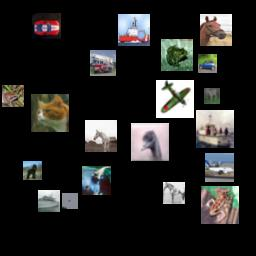airplane: (156, 80, 194, 118), (205, 153, 234, 182), (62, 193, 78, 209)
automobile: (32, 13, 61, 42), (198, 54, 217, 73)
bird: (131, 123, 169, 161), (82, 166, 111, 195)
cat: (31, 94, 69, 132)
deer: (204, 88, 220, 104)
dog: (23, 161, 42, 180)
frog: (201, 186, 239, 224), (161, 39, 193, 71), (2, 85, 24, 107)
ship: (196, 110, 234, 148), (118, 14, 150, 46), (38, 190, 60, 212)
truck: (90, 50, 116, 76)
